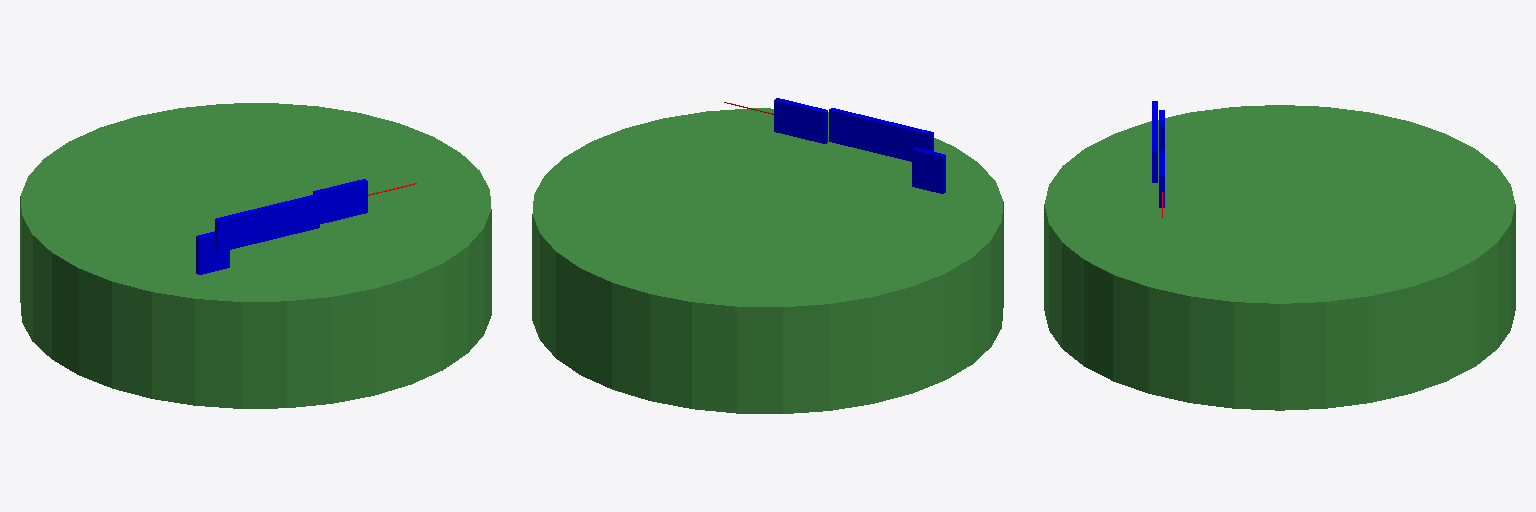
robot.urdf — second_bazu:
<?xml version="1.0"?>

<robot name="second_bazu">

<link name="world_link"/>

<link name="base_link">
    <inertial>
        <origin xyz="0.0 0.0 0.0" rpy="0.0 0.0 0.0"/>
        <mass value="5.0"/>
        <inertia ixx="0.024" ixy="0.0" ixz="0.0" iyy="0.024" iyz="0.0" izz="0.041"/>
    </inertial>
    <visual>
        <origin xyz="0.0 0.0 0.0" rpy="0.0 0.0 0.0"/>
        <geometry>
            <box size="0.5 0.5 0.2"/>
        </geometry>
        <material name="grey1">
            <color rgba="0.2 0.2 0.2 1.0"/>
            <texture filename=""/>
        </material>
    </visual>
    <collision>
        <origin xyz="0.0 0.0 0.0" rpy="0.0 0.0 0.0"/>
        <geometry>
            <box size="0.5 0.5 0.2"/>
        </geometry>
    </collision>
</link>

<link name="rear_arm_link">
    <inertial>
        <origin xyz="0.0 0.0 0.0" rpy="0.0 0.0 0.0"/>
        <mass value="1.0"/>
        <inertia ixx="0.090" ixy="0.0" ixz="0.0" iyy="0.0835" iyz="0.0" izz="0.0077"/>
    </inertial>
    <visual name="rear_arm_link_vis">
        <origin xyz="0 0 0.5" rpy="0.0 0.0 0.0"/>
        <geometry>
            <box size="0.05 0.3 1.0"/>
        </geometry>
        <material name="blue1">
            <color rgba="0.0 0.0 1.0 1.0"/>
        </material>
        
    </visual>
    <collision>
        <origin xyz="0 0 0.5" rpy="0.0 0.0 0.0"/>
        <geometry>
            <box size="0.05 0.3 1.0"/>
        </geometry>
    </collision>
</link>

<link name="fore_arm_link">
    <inertial>
        <origin xyz="0.0 0.0 0" rpy="0.0 0.0 0.0"/>
        <mass value="1.0"/>
        <inertia ixx="0.090" ixy="0.0" ixz="0.0" iyy="0.0835" iyz="0.0" izz="0.0077"/>
    </inertial>
    <visual>
        <origin xyz="0 0 -0.5" rpy="0.0 0.0 0.0"/>
        <geometry>
            <box size="0.05 0.3 1.0"/>
        </geometry>
        <material name="blue1">
            <color rgba="0.0 0.0 1.0 1.0"/>
        </material>
        
    </visual>
    <collision>
        <origin xyz="0 0 -0.5" rpy="0.0 0.0 0.0"/>
        <geometry>
            <box size="0.05 0.3 1.0"/>
        </geometry>
    </collision>
</link>

<link name="wrist_arm_link">
    <inertial>
        <origin xyz="0.0 0.0 0.0" rpy="0.0 0.0 0.0"/>
        <mass value="1.0"/>
        <inertia ixx="0.090" ixy="0.0" ixz="0.0" iyy="0.0210" iyz="0.0" izz="0.0077"/>
    </inertial>
    <visual>
        <origin xyz="0 0 -0.25" rpy="0.0 0.0 0.0"/>
        <geometry>
            <box size="0.05 0.3 0.5"/>
        </geometry>
        <material name="blue1">
            <color rgba="0.0 0.0 1.0 1.0"/>
        </material>
        
    </visual>
    <collision>
        <origin xyz="0 0 -0.25" rpy="0.0 0.0 0.0"/>
        <geometry>
            <box size="0.05 0.3 0.5"/>
        </geometry>
    </collision>
</link>

<link name="pointer_link">
    <inertial>
        <origin xyz="0.0 0.0 0.0" rpy="0.0 0.0 0.0"/>
        <mass value="0.0"/>
        <inertia ixx="0.0" ixy="0.0" ixz="0.0" iyy="0.0" iyz="0.0" izz="0.0"/>
    </inertial>
    <visual>
        <origin xyz="0.0 0.0 0.0" rpy="0.0 0.0 0.0"/>
        <geometry>
            <cylinder radius="0.005" length="0.5"/>
        </geometry>
        <material name="red1">
            <color rgba="1.0 0.0 0.0 1.0"/>
            <texture filename=""/>
        </material>
    </visual>
    <collision>
        <origin xyz="0.0 0.0 0.0" rpy="0.0 0.0 0.0"/>
        <geometry>
            <box size="0.0 0.0 0.0"/>
        </geometry>
    </collision>
</link>

<link name="obstacle_link">
    <inertial>
        <origin xyz="0.0 0.0 0.0" rpy="0.0 0.0 0.0"/>
        <mass value="0.0"/>
        <inertia ixx="0.0" ixy="0.0" ixz="0.0" iyy="0.0" iyz="0.0" izz="0.0"/>
    </inertial>
    <visual>
        <origin xyz="0.0 0.0 0.0" rpy="0.0 0.0 0.0"/>
        <geometry>
            <cylinder radius='2.0' length='1.0'/>
        </geometry>
        <material name="my_color">
            <color rgba="0.3 0.6 0.3 0.2"/>
            <texture filename=""/>
        </material>
    </visual>
    <collision>
        <origin xyz="0.0 0.0 0.0" rpy="0.0 0.0 0.0"/>
        <geometry>
            <box size="0.0 0.0 0.0"/>
        </geometry>
    </collision>
</link>

<joint name="world_base_joint" type="fixed">
    <parent link="world_link"/>
    <child link="base_link"/>
    <origin xyz="0.0 0.0 0.0" rpy="0.0 0.0 -1.57"/>
</joint>


<joint name="base_rear_arm_joint" type="continuous">
    <parent link="base_link"/>
    <child link="rear_arm_link"/>
    <axis xyz="0 0 1"/>
    <origin xyz="0 0 0.1" rpy="0 0 0"/>
</joint>

<joint name="rear_arm_fore_arm_joint" type="continuous">
    <parent link="rear_arm_link"/>
    <child link="fore_arm_link"/>
    <axis xyz="1 0 0"/>
    <origin xyz="0.06 0 1.0" rpy="1.57 0 0"/>
</joint>

<joint name="fore_arm_wrist_arm_joint" type="continuous">
    <parent link="fore_arm_link"/>
    <child link="wrist_arm_link"/>
    <axis xyz="1 0 0"/>
    <origin xyz="-0.06 0 -1.0" rpy="0.0 0 0"/>
</joint>

<joint name="wrist_arm_pointer_joint" type="fixed">
    <parent link="wrist_arm_link"/>
    <child link="pointer_link"/>
    <origin xyz="0.0 0 -0.75" rpy="0.0 0.0 0.0"/>
</joint>

<joint name="world_obstacle_joint" type="fixed">
    <parent link="world_link"/>
    <child link="obstacle_link"/>
    <origin xyz="1.0 1.0 0.25" rpy="0.0 0.0 0.0"/>
</joint>

<!-- ===============================Gazebo Shiz======================================== -->
<!-- 
<transmission name="trans_1">
    <type>transmission_interface/SimpleTransmission</type>
    <joint name="base_rear_arm_joint">
        <hardwareInterface>hardware_interface/PositionJointInterface</hardwareInterface>
    </joint>
    <actuator name="motor_1">
        <mechanicalReduction>1.0</mechanicalReduction>
        <hardwareInterface>hardware_interface/PositionJointInterface</hardwareInterface>
    </actuator>
</transmission>

<transmission name="trans_2">
    <type>transmission_interface/SimpleTransmission</type>
    <joint name="rear_arm_fore_arm_joint">
        <hardwareInterface>hardware_interface/PositionJointInterface</hardwareInterface>
    </joint>
    <actuator name="motor_2">
        <mechanicalReduction>1.0</mechanicalReduction>
        <hardwareInterface>hardware_interface/PositionJointInterface</hardwareInterface>
    </actuator>
</transmission>

<transmission name="trans_3">
    <type>transmission_interface/SimpleTransmission</type>
    <joint name="fore_arm_wrist_arm_joint">
        <hardwareInterface>hardware_interface/PositionJointInterface</hardwareInterface>
    </joint>
    <actuator name="motor_3">
        <mechanicalReduction>1.0</mechanicalReduction>
        <hardwareInterface>hardware_interface/PositionJointInterface</hardwareInterface>
    </actuator>
</transmission>

<gazebo>
    <plugin name="gazebo_ros_control" filename="libgazebo_ros_control.so"/> 
</gazebo>

<gazebo reference = "base_link">
    <material>Gazebo/Black</material>
</gazebo>
    
<gazebo reference = "rear_arm_link">
    <material>Gazebo/Orange</material>
</gazebo>

<gazebo reference = "fore_arm_link">
    <material>Gazebo/Blue</material>
</gazebo>

<gazebo reference = "wrist_arm_link">
    <material>Gazebo/Red</material>
</gazebo> -->

</robot>

--- Facts derived from the render (not from the file) ---
3 views of the same robot in one strip: view 1: azimuth 30°, elevation 25°; view 2: azimuth 150°, elevation 25°; view 3: azimuth 270°, elevation 25° (orthographic).
Robot: second_bazu — 7 links, 6 joints (3 continuous, 3 fixed); root link world_link; default pose: all joints at 0.
Visible links, largest first — view 1: obstacle_link, fore_arm_link, wrist_arm_link, rear_arm_link; view 2: obstacle_link, fore_arm_link, wrist_arm_link, rear_arm_link; view 3: obstacle_link.
Link boxes in pixels (x1,y1,x2,y2): obstacle_link: (20,103,491,408); fore_arm_link: (215,194,319,252); wrist_arm_link: (313,179,367,223); rear_arm_link: (196,231,229,274); obstacle_link: (532,108,1003,413); fore_arm_link: (829,108,933,161); wrist_arm_link: (774,98,827,143); rear_arm_link: (912,147,945,193); obstacle_link: (1044,105,1515,410).
Bounding box of the posed robot: 4 × 4 × 1.5 m (x, y, z).
Geometry: primitives only (box / cylinder / sphere), no mesh files.